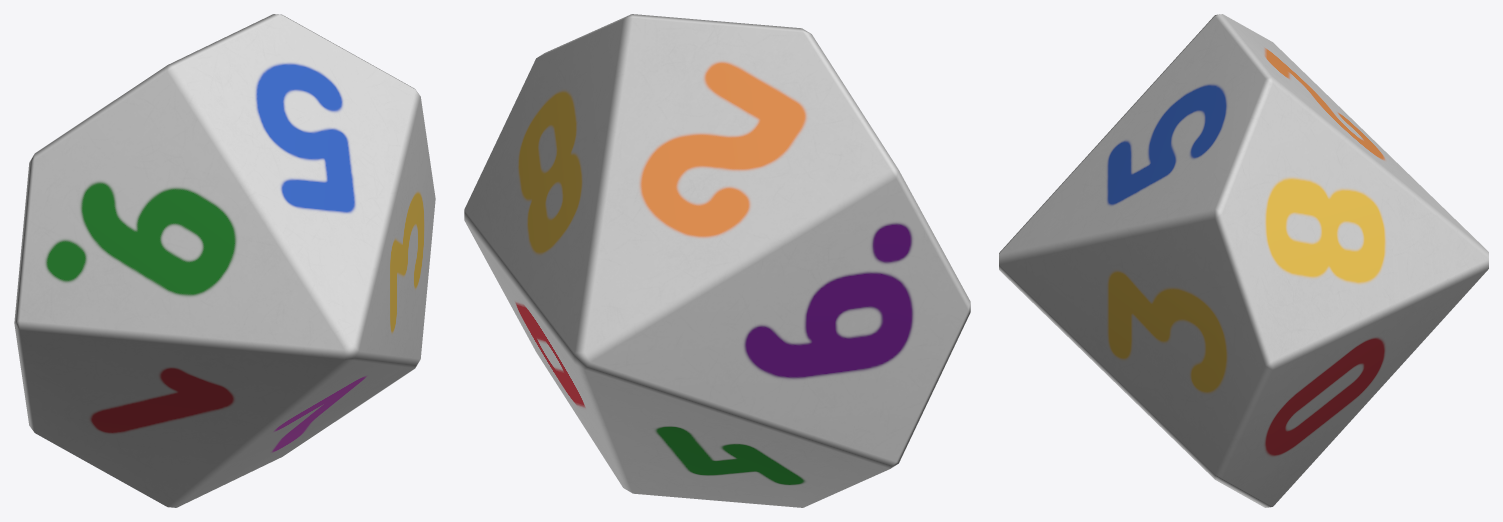
The model's file is d10_rainbow.glb.
3 views of the same model, side by side, from view 1: azimuth 30°, elevation 25°; view 2: azimuth 150°, elevation 25°; view 3: azimuth 270°, elevation 25° (orthographic). The views are drawn at different scales.
Visible parts, largest first — view 1: Mesh_0; view 2: Mesh_0; view 3: Mesh_0.
Boxes of the visible parts, x1,y1,x2,y2 form: Mesh_0: [14, 14, 435, 507]; Mesh_0: [464, 14, 970, 507]; Mesh_0: [999, 14, 1488, 507].
Size of the model in its own units: 175 by 166 by 172.
1 material, 1 textured.
